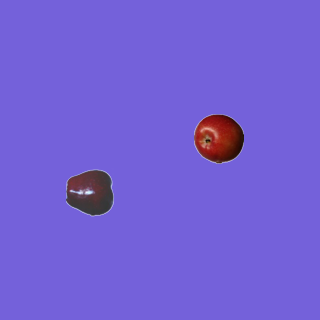Apple Braeburn: (193, 113, 243, 163)
Apple Red Delicious: (65, 167, 115, 217)
